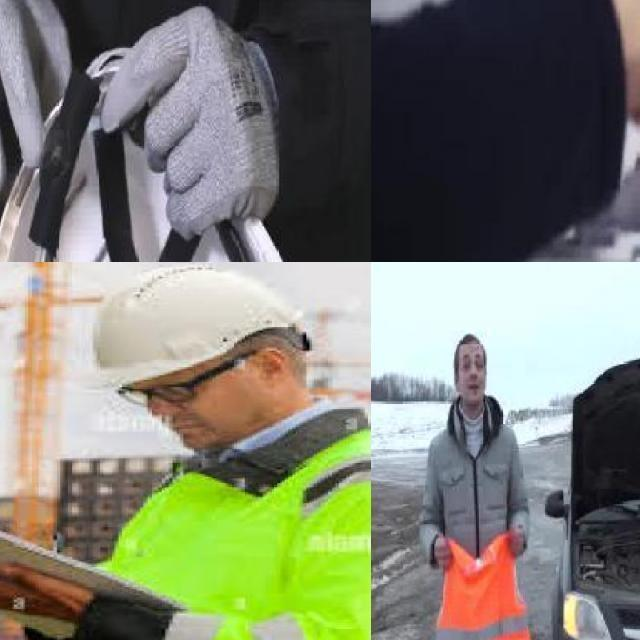apron: (98, 2, 280, 244), (0, 0, 71, 242)
